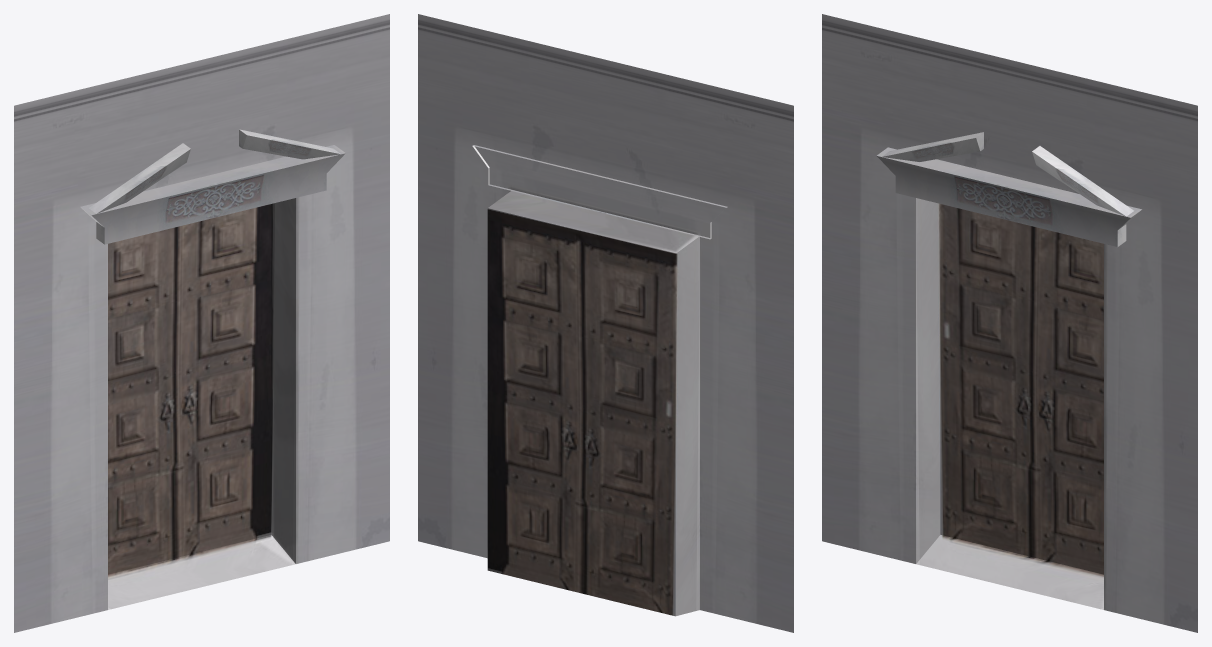
The model's file is tuer.obj.
3 views of the same model, side by side, from view 1: azimuth 30°, elevation 25°; view 2: azimuth 150°, elevation 25°; view 3: azimuth 330°, elevation 25° (orthographic).
Parts seen in each view (by area): view 1: polySurface178; view 2: polySurface178; view 3: polySurface178.
Boxes of the visible parts, left/top/right/bottom form: polySurface178: left=14, top=14, right=389, bottom=632; polySurface178: left=418, top=14, right=793, bottom=632; polySurface178: left=822, top=14, right=1197, bottom=632.
Bounding box in the file's own units: 0.8871 × 1.19 × 0.147.
Materials: 1 (1 with a texture image).
